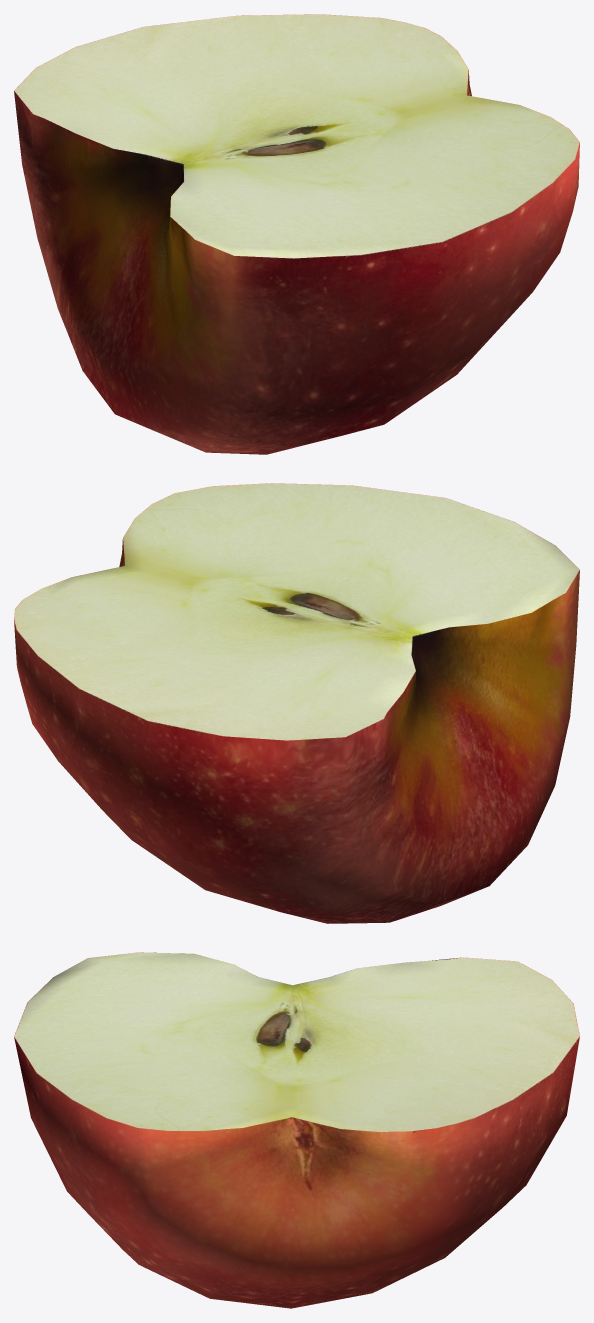
Rendered from apple_half_red.glb.
The picture shows the model from 3 angles, top to bottom: view 1: azimuth 30°, elevation 25°; view 2: azimuth 150°, elevation 25°; view 3: azimuth 270°, elevation 25°; orthographic projection. The views are drawn at different scales.
Visible parts, largest first — view 1: cutted apple v01; view 2: cutted apple v01; view 3: cutted apple v01.
Part boxes in pixels (x1,y1,x2,y2): cutted apple v01: (14,14,579,454); cutted apple v01: (14,483,579,923); cutted apple v01: (14,952,579,1308).
Bounding box in the file's own units: 0.0742 × 0.049 × 0.0941.
1 material, 1 textured.
